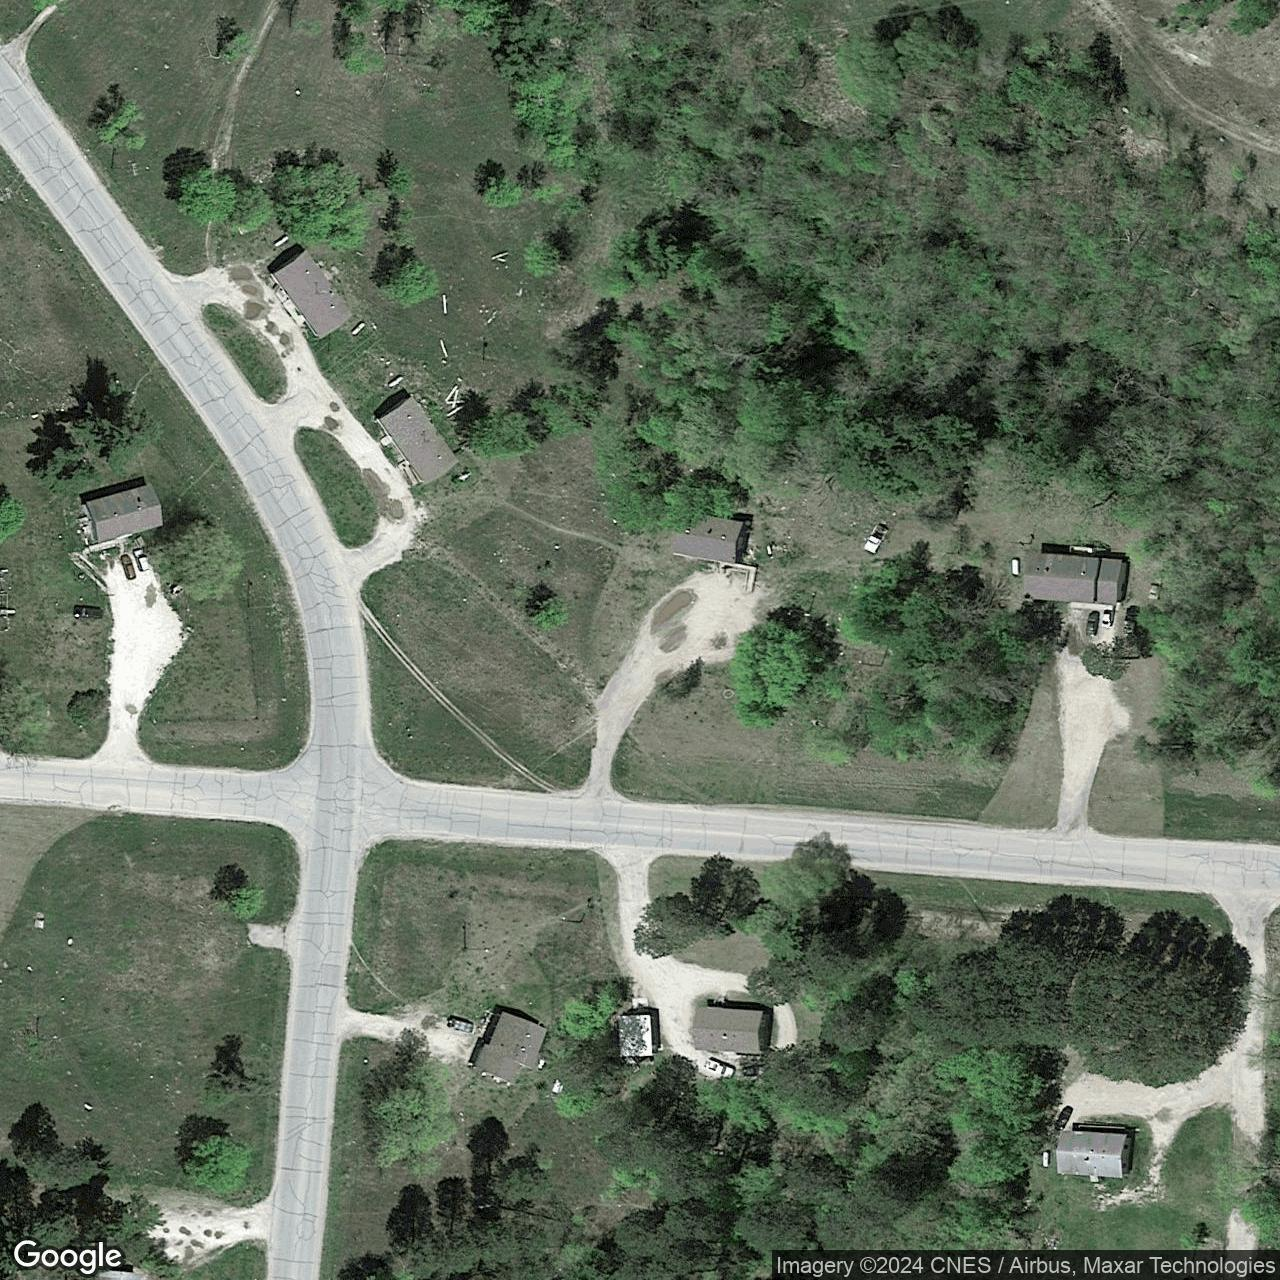Garage: (615, 1013, 658, 1058)
House: (268, 246, 354, 343), (376, 395, 459, 484), (74, 481, 165, 547), (470, 1012, 549, 1085), (1024, 551, 1129, 602), (670, 511, 750, 565), (692, 1006, 775, 1054), (1055, 1130, 1133, 1179)
Propane: (348, 318, 368, 336), (271, 232, 292, 250), (387, 372, 406, 389), (1006, 556, 1020, 579), (1041, 1151, 1050, 1169)
